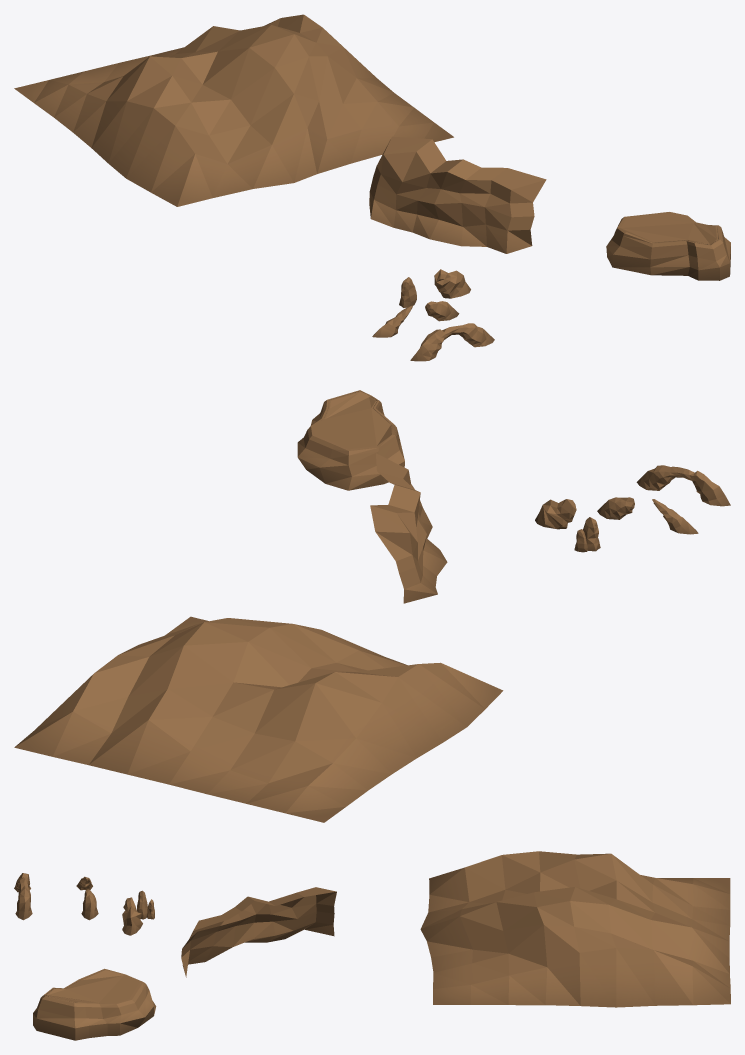
The model's file is Rock_03.FBX.
The picture shows the model from 3 angles, top to bottom: view 1: azimuth 30°, elevation 25°; view 2: azimuth 150°, elevation 25°; view 3: azimuth 270°, elevation 25°; orthographic projection. The views are drawn at different scales.
Visible parts, largest first — view 1: Plane001, Object008, Object009, Object010, Object014; view 2: Plane001, Object009, Object008, Object010, Object014; view 3: Plane001, Object008, Object009, Object010, Object014, Object012.
Boxes of the visible parts, box(x1,y1,x2,y2) form: Plane001: box(14, 14, 453, 206); Object008: box(369, 136, 546, 253); Object009: box(606, 212, 730, 280); Object010: box(410, 323, 494, 361); Object014: box(434, 269, 470, 298); Plane001: box(14, 616, 503, 822); Object009: box(297, 390, 404, 490); Object008: box(370, 453, 447, 603); Object010: box(636, 465, 730, 506); Object014: box(535, 499, 576, 529); Plane001: box(420, 851, 730, 1007); Object008: box(181, 887, 336, 977); Object009: box(33, 968, 156, 1040); Object010: box(14, 873, 32, 920); Object014: box(122, 897, 142, 935); Object012: box(81, 889, 98, 920).
Bounding box in the file's own units: 6584 × 1264 × 11842.
